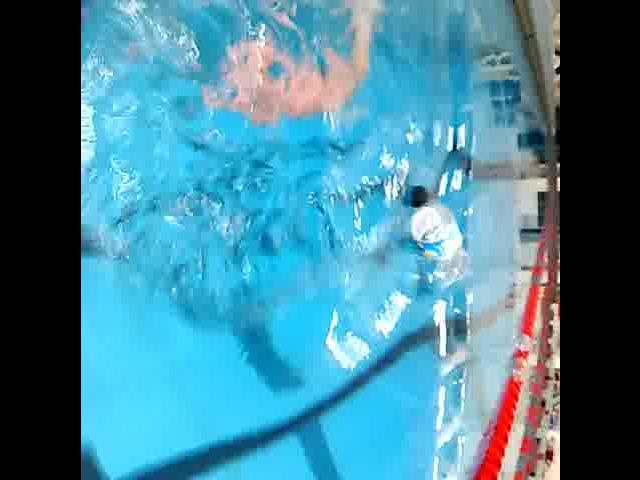Bottle: (398, 176, 473, 296)
